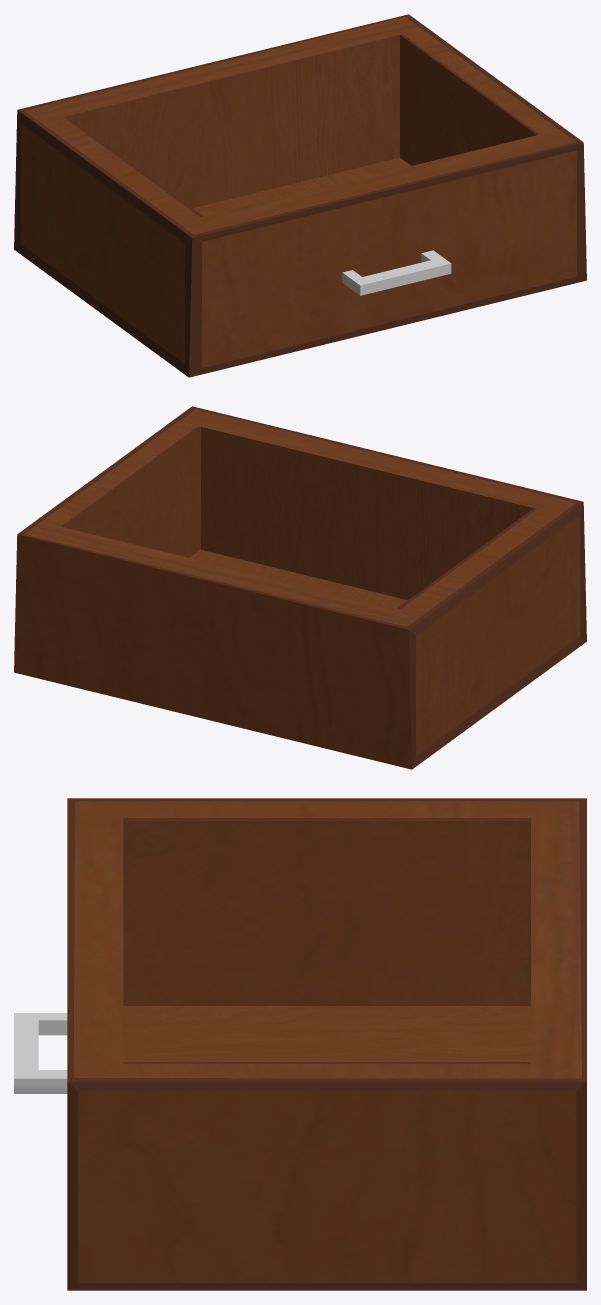
The model's file is Desk_Drawer.fbx.
The picture shows the model from 3 angles, top to bottom: view 1: azimuth 30°, elevation 25°; view 2: azimuth 150°, elevation 25°; view 3: azimuth 270°, elevation 25°; orthographic projection. The views are drawn at different scales.
Parts seen in each view (by area): view 1: Desk_Drawer; view 2: Desk_Drawer; view 3: Desk_Drawer.
Boxes of the visible parts, left/top/right/bottom form: Desk_Drawer: left=14, top=14, right=586, bottom=377; Desk_Drawer: left=14, top=406, right=586, bottom=769; Desk_Drawer: left=14, top=798, right=586, bottom=1290.
Size of the model in its own units: 39.18 by 13.07 by 32.9.
